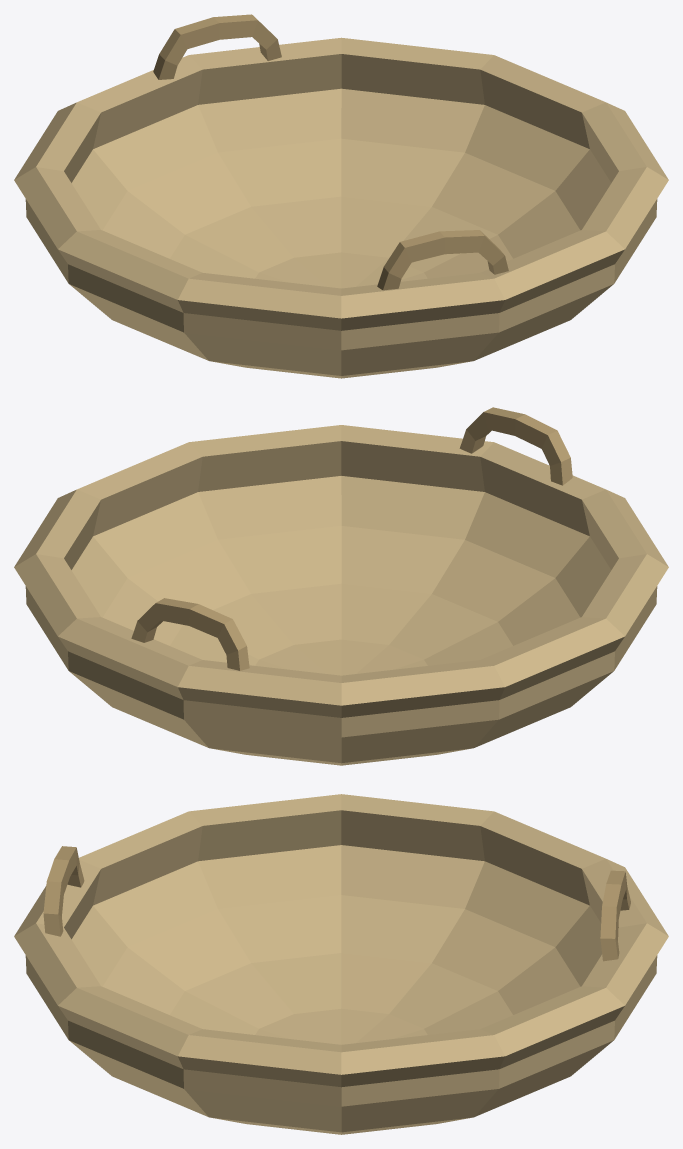
The model's file is SM_Prop_Basket_05.glb.
The picture shows the model from 3 angles, top to bottom: view 1: azimuth 30°, elevation 25°; view 2: azimuth 150°, elevation 25°; view 3: azimuth 270°, elevation 25°; orthographic projection.
Parts seen in each view (by area): view 1: SM_Prop_Basket_05; view 2: SM_Prop_Basket_05; view 3: SM_Prop_Basket_05.
Part boxes in pixels (x1,y1,x2,y2): SM_Prop_Basket_05: [14, 14, 668, 378]; SM_Prop_Basket_05: [14, 407, 668, 765]; SM_Prop_Basket_05: [14, 794, 668, 1134].
Size of the model in its own units: 1.75 by 0.6013 by 1.75.
1 material, 1 textured.
